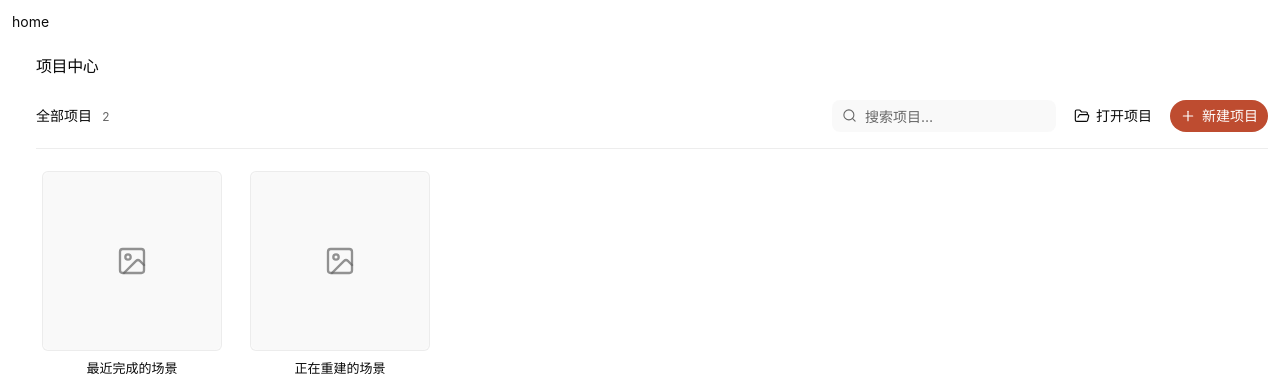
Test: HomePage › counts name and path search matches without a status filter
Expected: the text named "本机项目记录" reads "2", [102, 109, 110, 125]
Step 1. Type "最近完成的场景" into the field named "搜索项目名称或路径" → (944, 116), box [832, 100, 1056, 132]
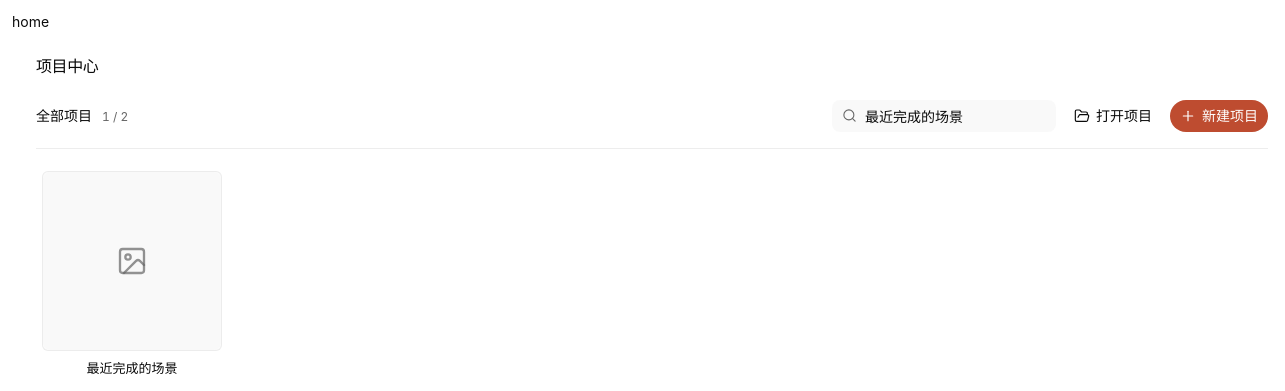
Now the text named "本机项目记录" reads "1 / 2", box [102, 109, 128, 125]
Step 2. Replace the text in the field named "搜索项目名称或路径" with "C:\\projects\\running" → (944, 116), box [832, 100, 1056, 132]
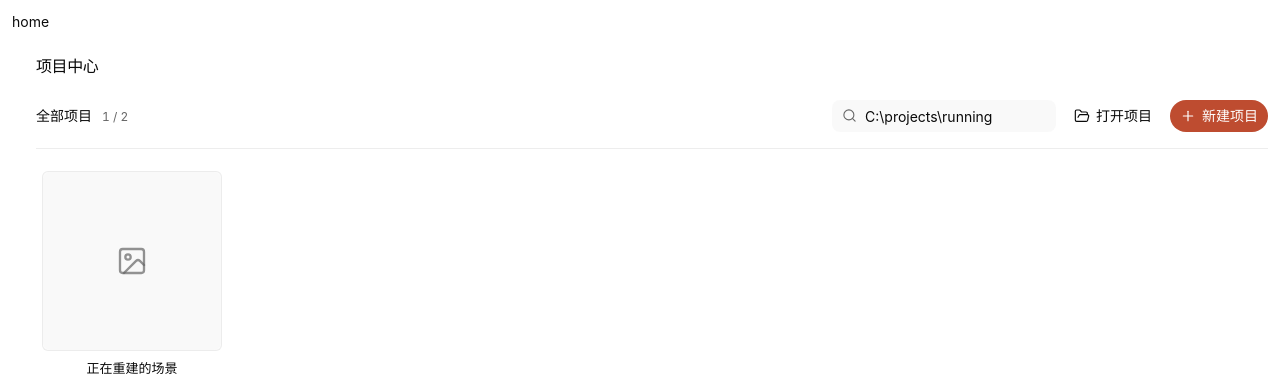
Step 3. Replace the text in the field named "搜索项目名称或路径" with "不存在的场景" → (944, 116), box [832, 100, 1056, 132]
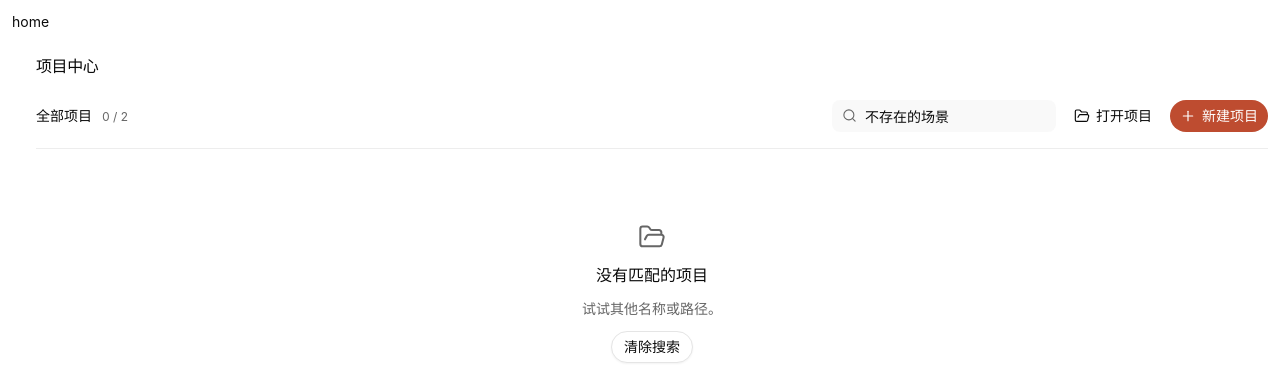
Now the text named "本机项目记录" reads "0 / 2", box [102, 109, 128, 125]
Now the heading "没有匹配的项目" is shown, box [596, 262, 708, 286]
Step 4. Click the button "清除搜索" → (652, 346), box [611, 330, 693, 362]
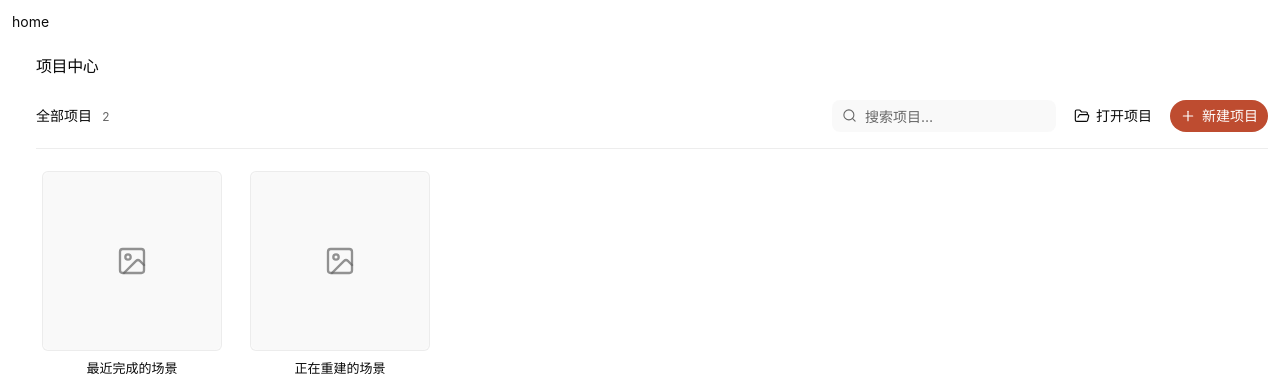
Now the field named "搜索项目名称或路径" is empty, box [832, 100, 1056, 132]
Now the text named "本机项目记录" reads "2", box [102, 109, 110, 125]
